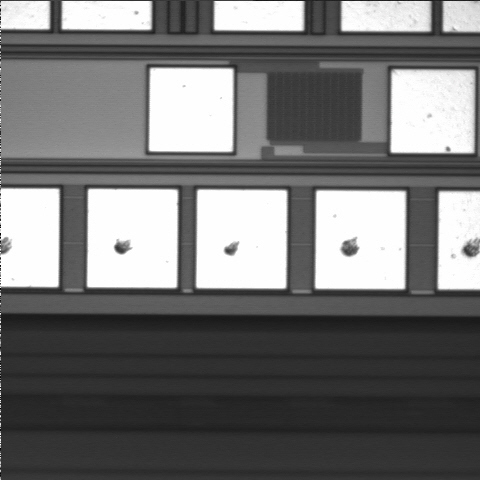pad: (87, 189, 178, 288), (196, 190, 287, 288), (315, 191, 406, 289), (149, 68, 233, 152), (391, 70, 474, 153)
